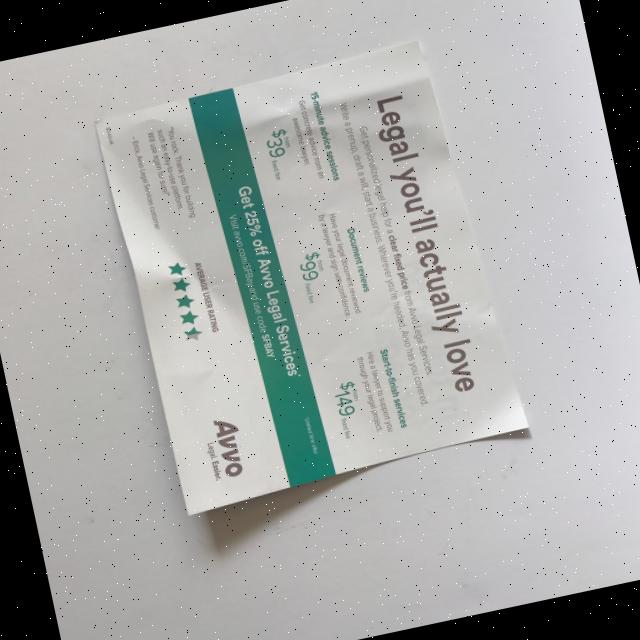paper: (91, 33, 532, 517)
